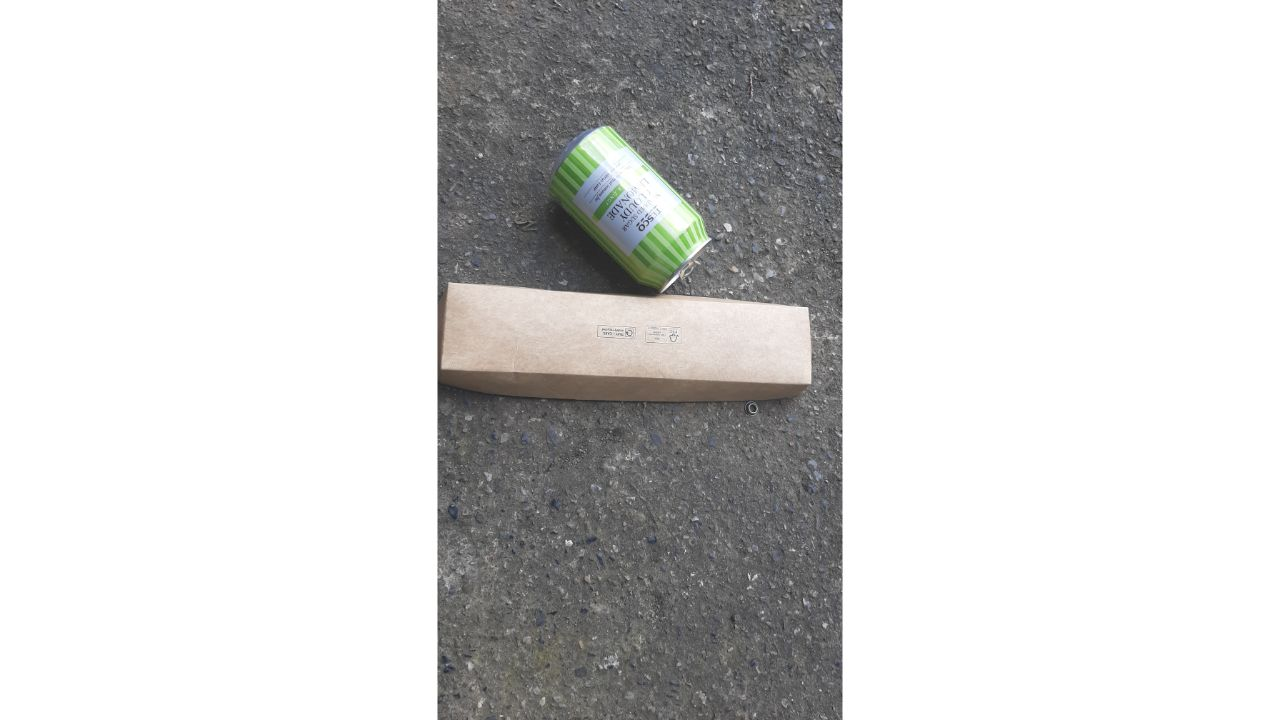Can: (540, 113, 723, 297)
